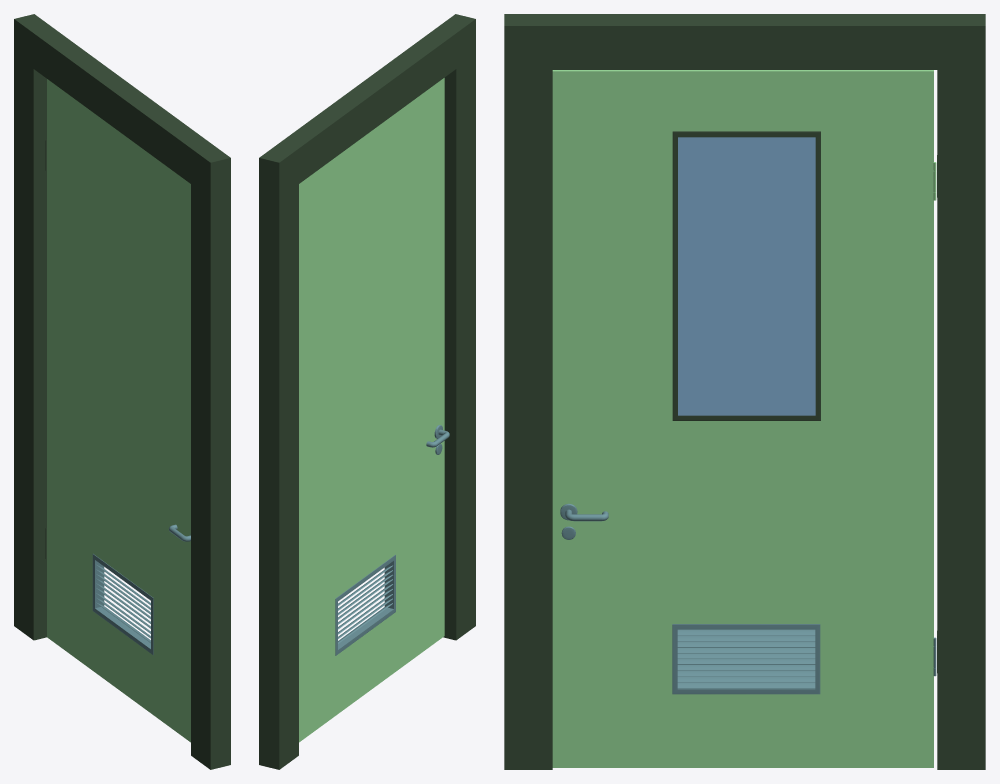
The model's file is door.fbx.
3 views of the same model, side by side, from view 1: azimuth 30°, elevation 25°; view 2: azimuth 150°, elevation 25°; view 3: azimuth 270°, elevation 25° (orthographic). The views are drawn at different scales.
Visible parts, largest first — view 1: Куб.003, Куб.002; view 2: Куб.003, Куб.002; view 3: Куб.003, Куб.002.
Boxes of the visible parts, x1,y1,x2,y2 form: Куб.003: (47, 79, 190, 742); Куб.002: (14, 14, 230, 769); Куб.003: (299, 78, 449, 742); Куб.002: (259, 14, 475, 769); Куб.003: (552, 70, 936, 767); Куб.002: (504, 14, 985, 769).
Bounding box in the file's own units: 100 × 1700 × 997.
